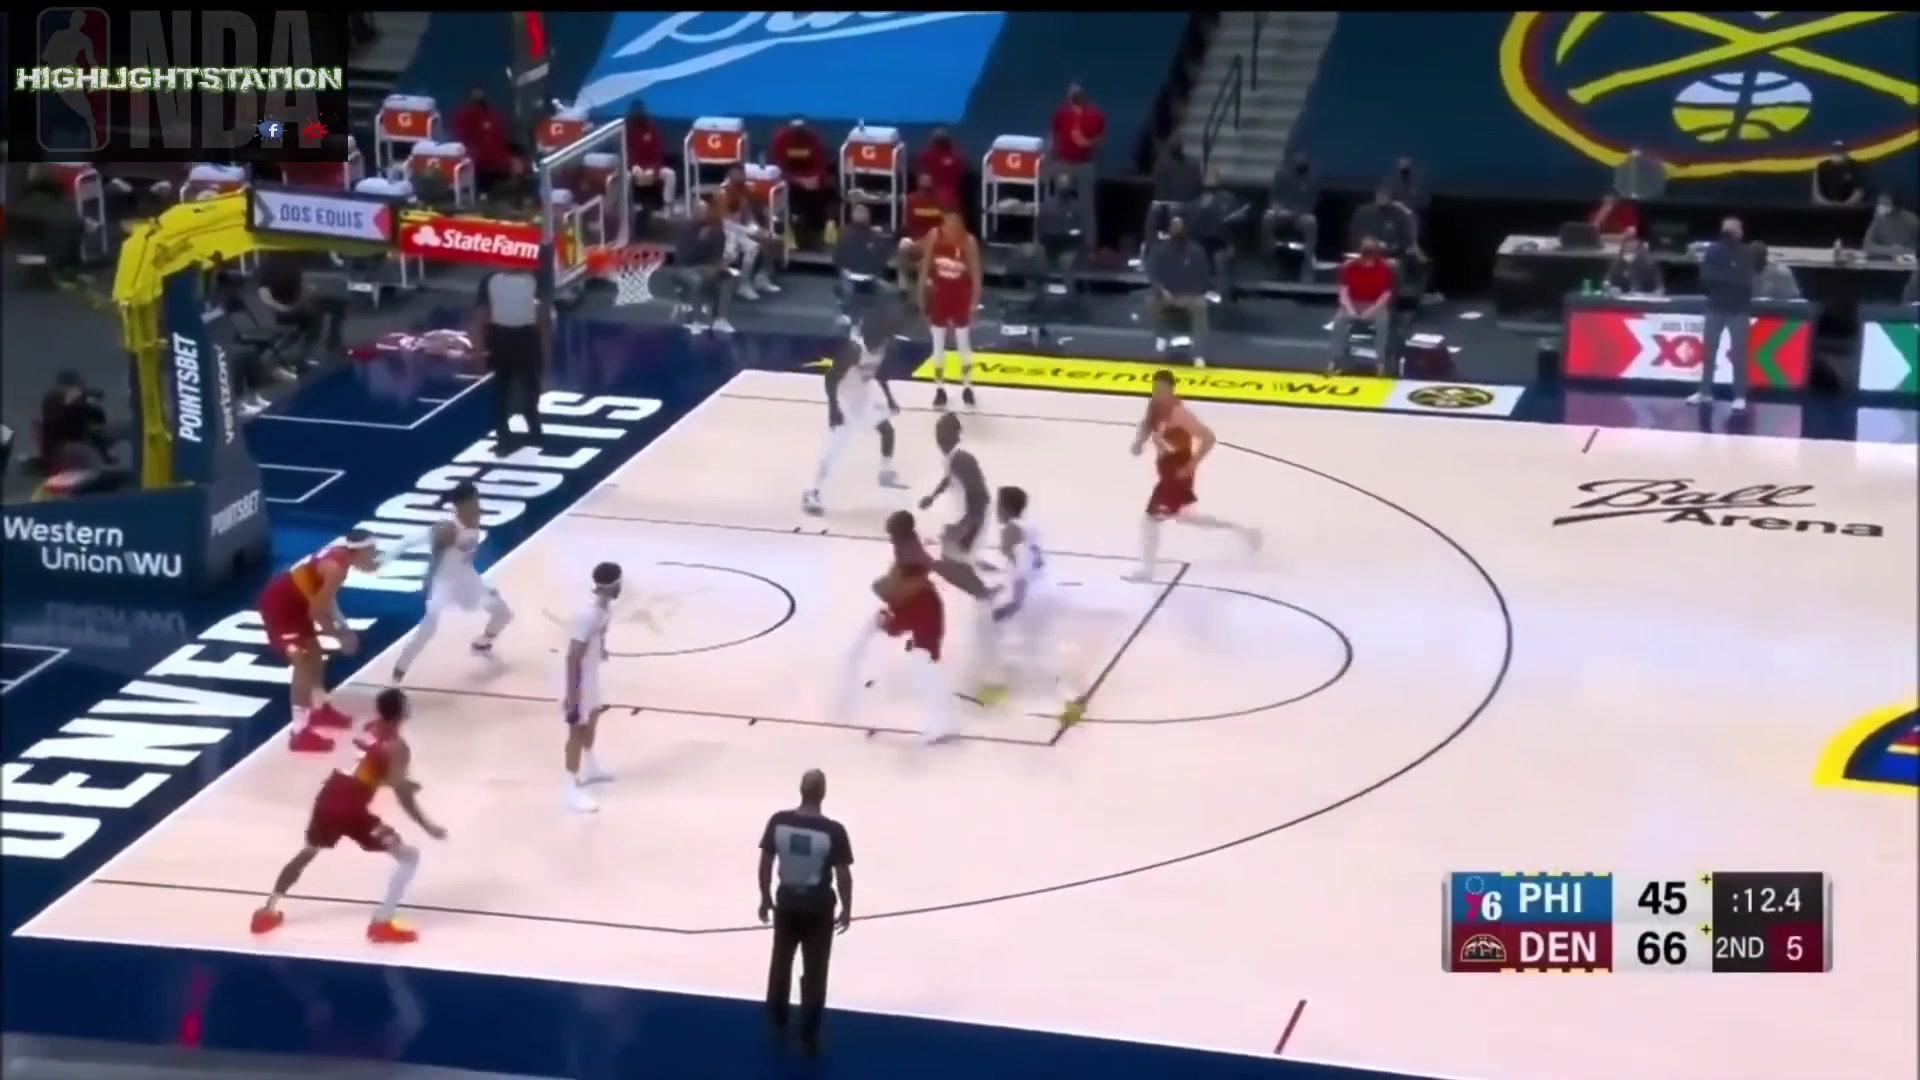no_foul: (828, 484, 1079, 750)
